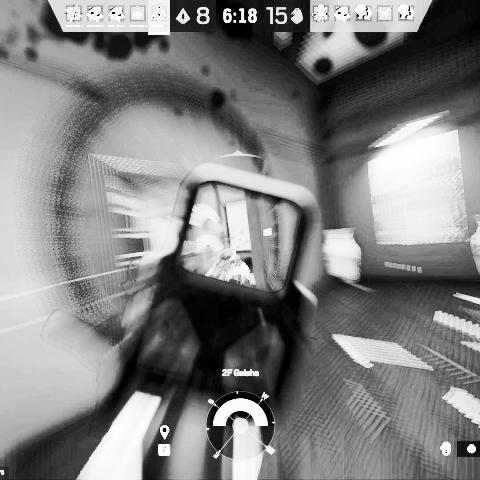Character: (204, 248, 252, 286)
Head: (217, 250, 241, 270)
